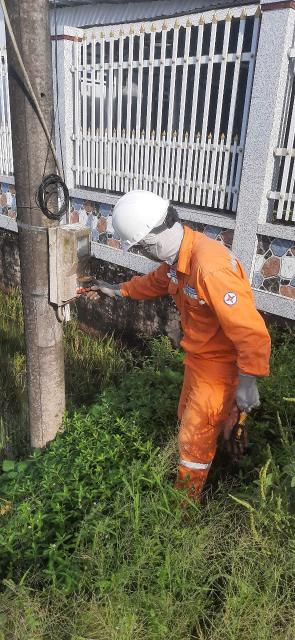gloves: (231, 338, 273, 417), (81, 265, 142, 310)
helmet: (107, 181, 187, 249)
